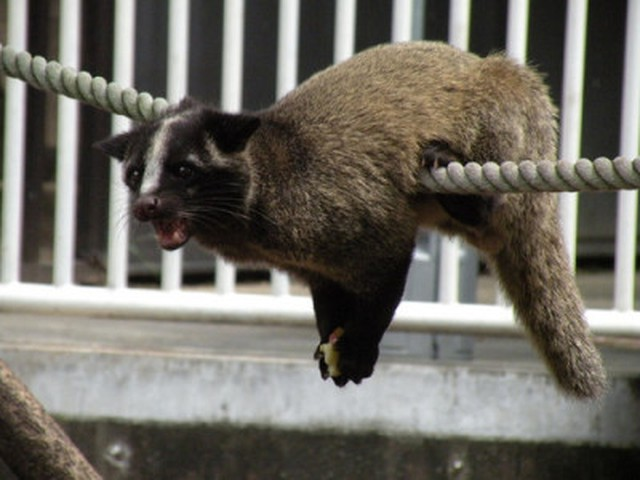civet: (91, 38, 610, 399)
